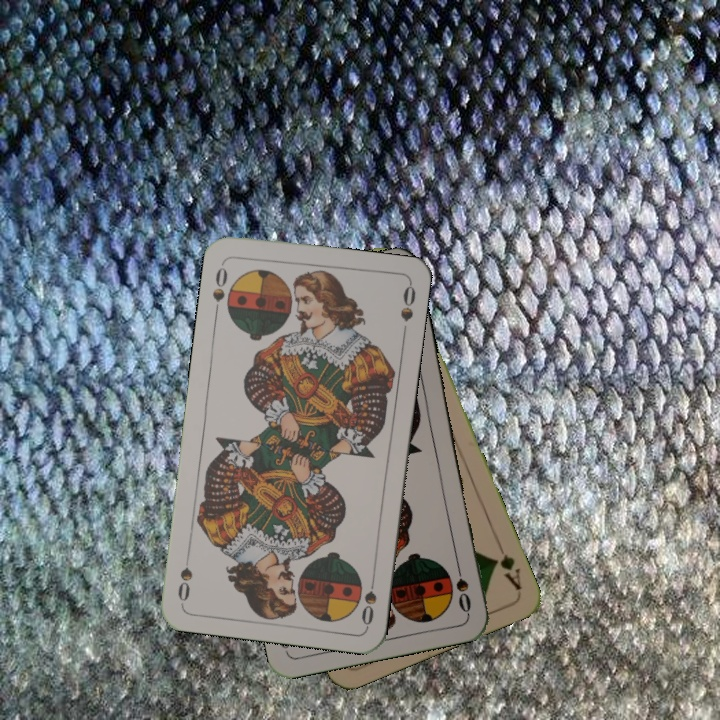GA: (489, 536, 525, 593)
SO: (451, 557, 474, 615), (357, 569, 379, 628), (208, 258, 230, 317)
